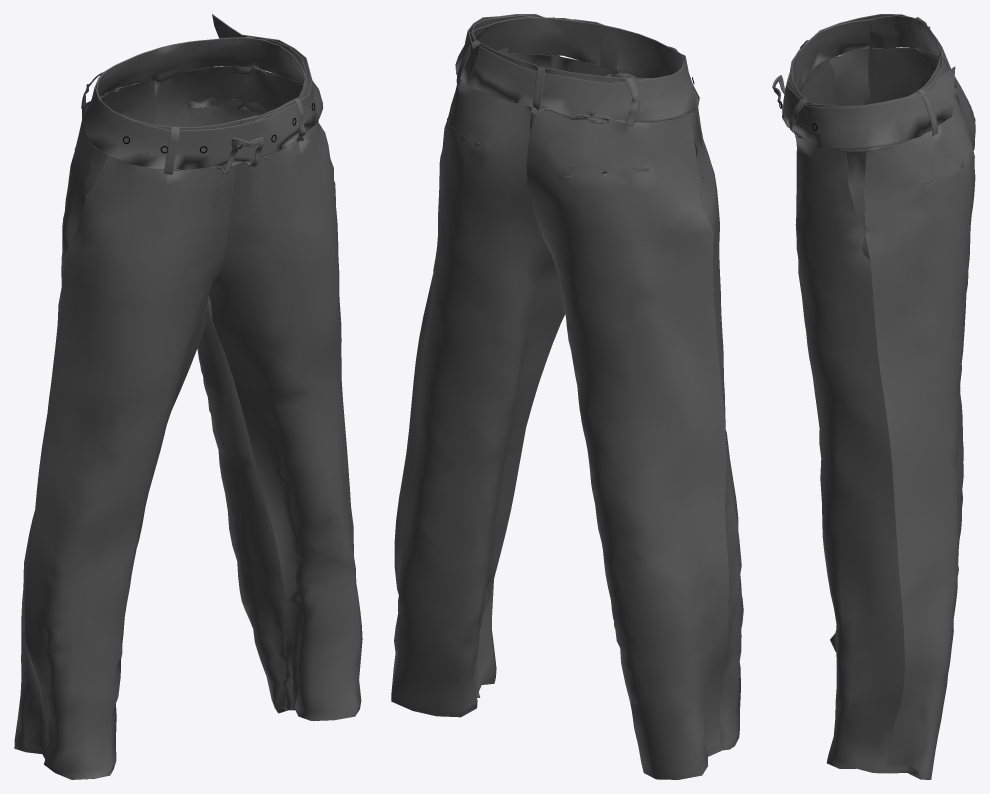
The model's file is tofferpantslowpoly.fbx.
The picture shows the model from 3 angles, left to right: view 1: azimuth 30°, elevation 25°; view 2: azimuth 150°, elevation 25°; view 3: azimuth 270°, elevation 25°; orthographic projection. The views are drawn at different scales.
Parts seen in each view (by area): view 1: 凯信-Toffe pants_朴*1腰带_2; view 2: 凯信-Toffe pants_朴*1腰带_2; view 3: 凯信-Toffe pants_朴*1腰带_2.
Part boxes in pixels (x1,y1,x2,y2): 凯信-Toffe pants_朴*1腰带_2: (14, 14, 362, 779); 凯信-Toffe pants_朴*1腰带_2: (391, 14, 743, 779); 凯信-Toffe pants_朴*1腰带_2: (772, 14, 975, 779).
Size of the model in its own units: 48.75 by 98.17 by 26.87.
56 materials, 56 textured.
